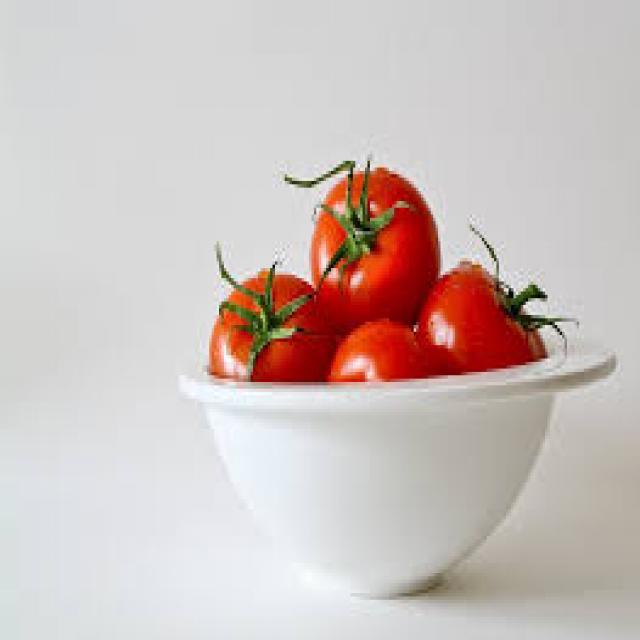organic waste: (280, 154, 440, 332), (414, 221, 576, 369), (207, 238, 338, 379), (323, 312, 458, 375)
